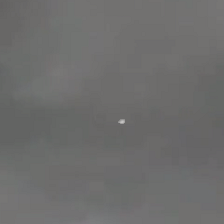Target: (118, 119, 125, 124)
